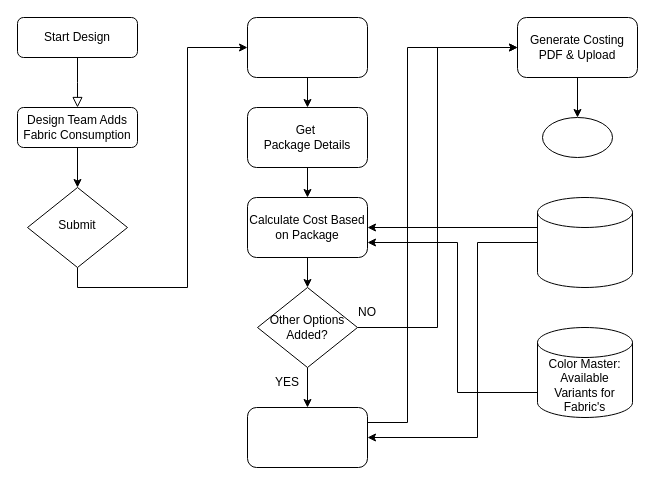
The diagram is 658 pixels wide and 485 high, and some of its shapes have lost their labels. Each missing label, with the centre of its shape:
Calculate Cost on Other Services Selected: pixel 307 437
End: pixel 577 137
Product Master : Fabic / Service Rates: pixel 584 242
Start Tensile Auto Costing Script: pixel 307 47
